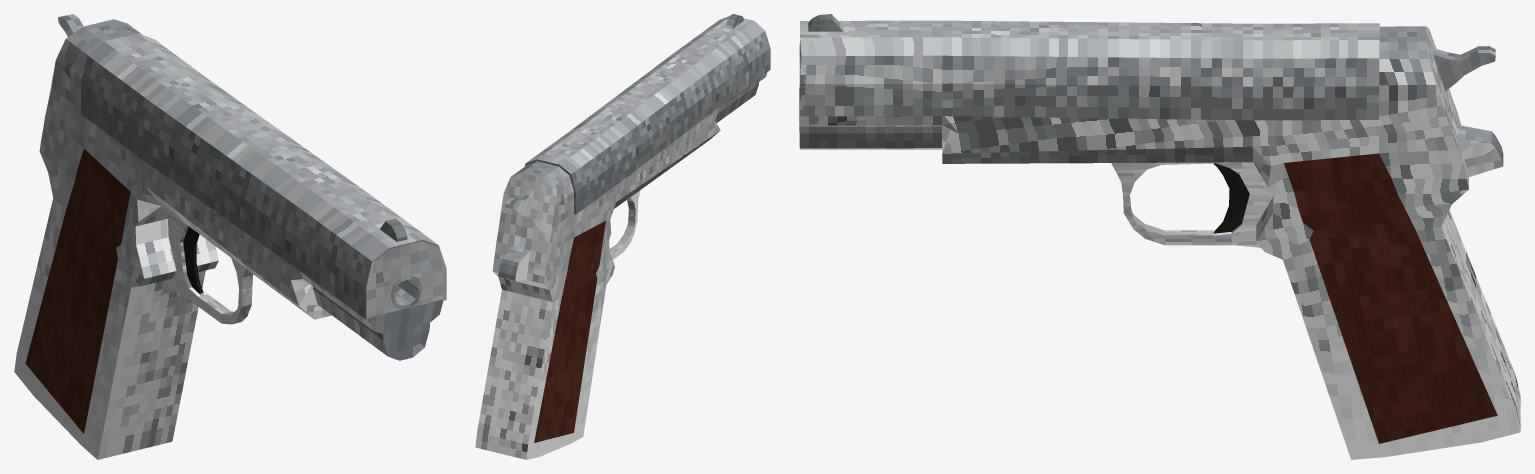
File: Colt.glb
3 views of the same model, side by side, from view 1: azimuth 30°, elevation 25°; view 2: azimuth 150°, elevation 25°; view 3: azimuth 270°, elevation 25° (orthographic). The views are drawn at different scales.
Visible parts, largest first — view 1: Cube, Cube.001, Cube.002; view 2: Cube, Cube.001, Cube.002; view 3: Cube, Cube.001, Cube.002.
Boxes of the visible parts, x1=… form: Cube: x1=14, y1=14, x2=443, y2=459; Cube.001: x1=81, y1=33, x2=446, y2=319; Cube.002: x1=160, y1=213, x2=253, y2=324; Cube: x1=475, y1=72, x2=767, y2=459; Cube.001: x1=524, y1=14, x2=770, y2=214; Cube.002: x1=609, y1=190, x2=640, y2=259; Cube: x1=799, y1=26, x2=1520, y2=459; Cube.001: x1=799, y1=14, x2=1379, y2=120; Cube.002: x1=1111, y1=162, x2=1272, y2=248.
Bounding box in the file's own units: 1.09 × 5.42 × 8.34.
Materials: 3 (3 with a texture image).
